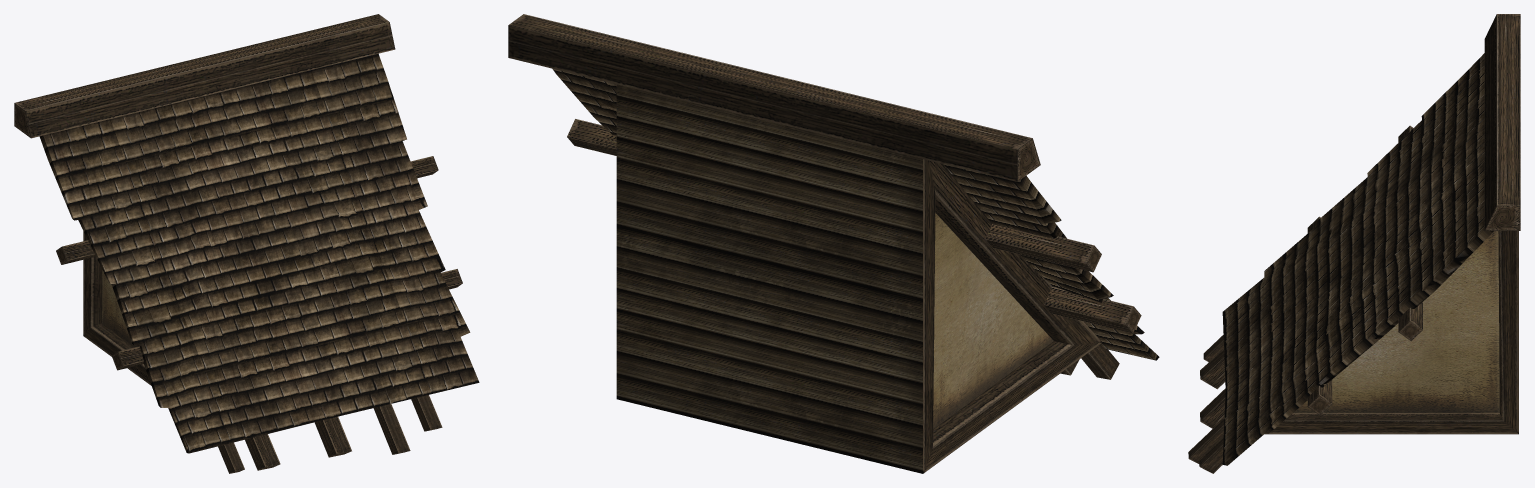
File: Roof_8X8_02a.fbx
3 renders of one model, left to right at view 1: azimuth 30°, elevation 25°; view 2: azimuth 150°, elevation 25°; view 3: azimuth 270°, elevation 25°, orthographic. The views are drawn at different scales.
Visible parts, largest first — view 1: Roof_8X8_02a; view 2: Roof_8X8_02a; view 3: Roof_8X8_02a.
Part boxes in pixels (x1,y1,x2,y2): Roof_8X8_02a: (14, 14, 479, 473); Roof_8X8_02a: (508, 14, 1159, 473); Roof_8X8_02a: (1188, 14, 1520, 473).
Size of the model in its own units: 13.55 by 10.48 by 9.73.
